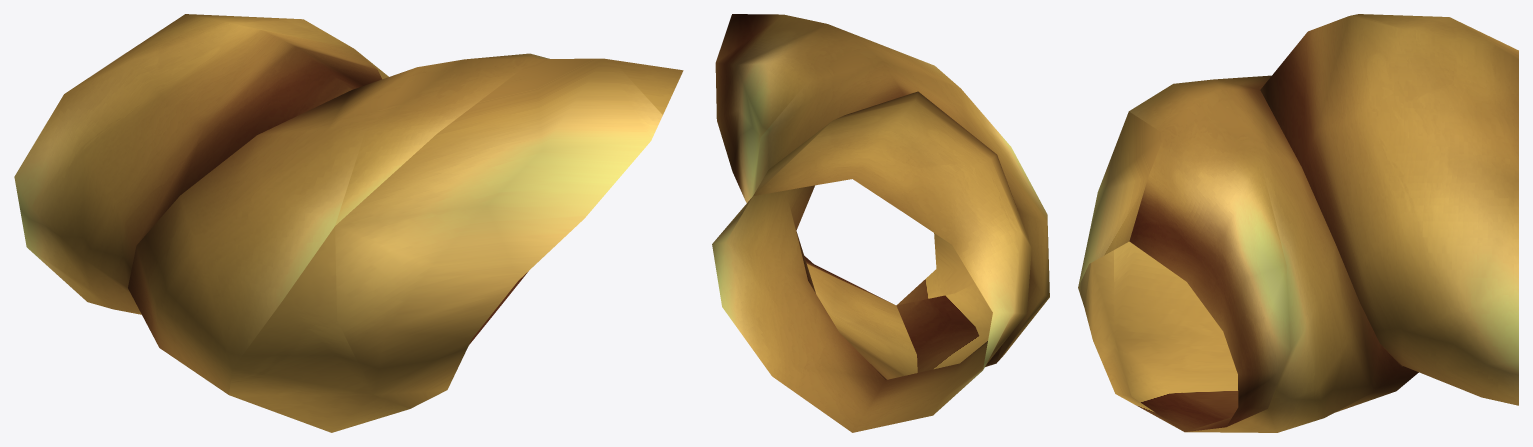
The model's file is Rope_End_01.obj.
3 views of the same model, side by side, from view 1: azimuth 30°, elevation 25°; view 2: azimuth 150°, elevation 25°; view 3: azimuth 270°, elevation 25° (orthographic). The views are drawn at different scales.
Parts seen in each view (by area): view 1: Rope_End_01; view 2: Rope_End_01; view 3: Rope_End_01.
Boxes of the visible parts, x1,y1,x2,y2 form: Rope_End_01: (14, 14, 683, 432); Rope_End_01: (712, 14, 1049, 432); Rope_End_01: (1078, 14, 1518, 432).
Size of the model in its own units: 0.2936 by 0.2019 by 0.2034.
